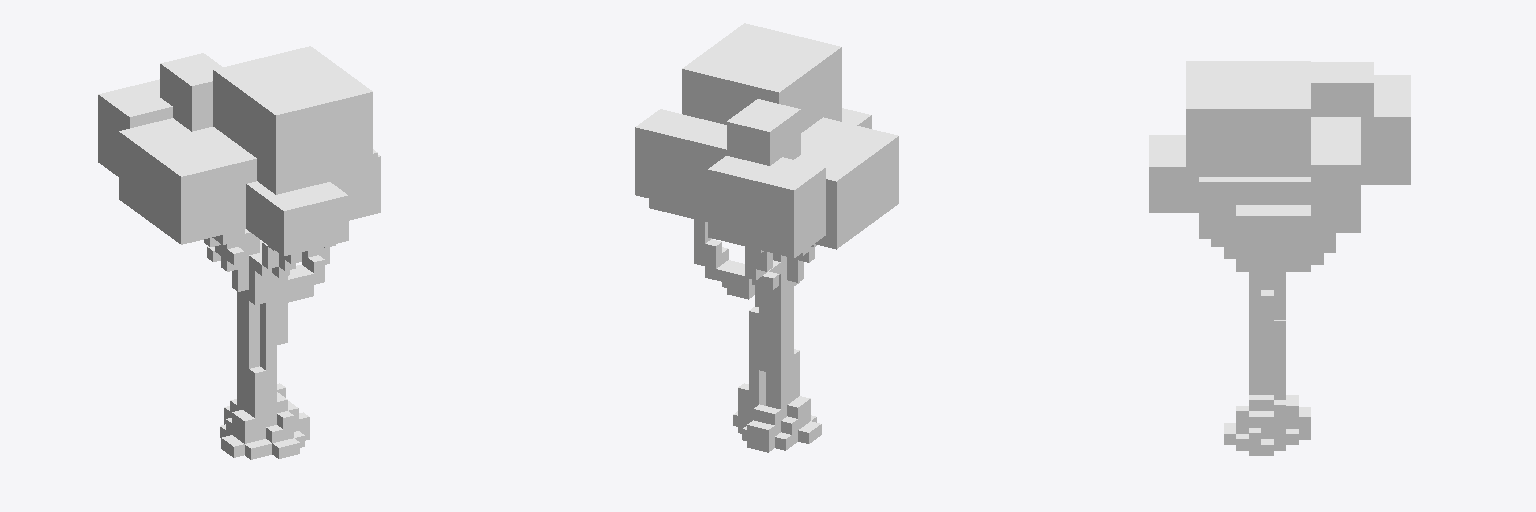
The model's file is leaftree.obj.
3 views of the same model, side by side, from view 1: azimuth 30°, elevation 25°; view 2: azimuth 150°, elevation 25°; view 3: azimuth 270°, elevation 25° (orthographic).
Parts seen in each view (by area): view 1: object 1; view 2: object 1; view 3: object 1.
Boxes of the visible parts, x1=… form: object 1: x1=98, y1=46, x2=380, y2=459; object 1: x1=635, y1=23, x2=898, y2=452; object 1: x1=1149, y1=61, x2=1410, y2=455.
Size of the model in its own units: 1.9 by 3.2 by 2.1.